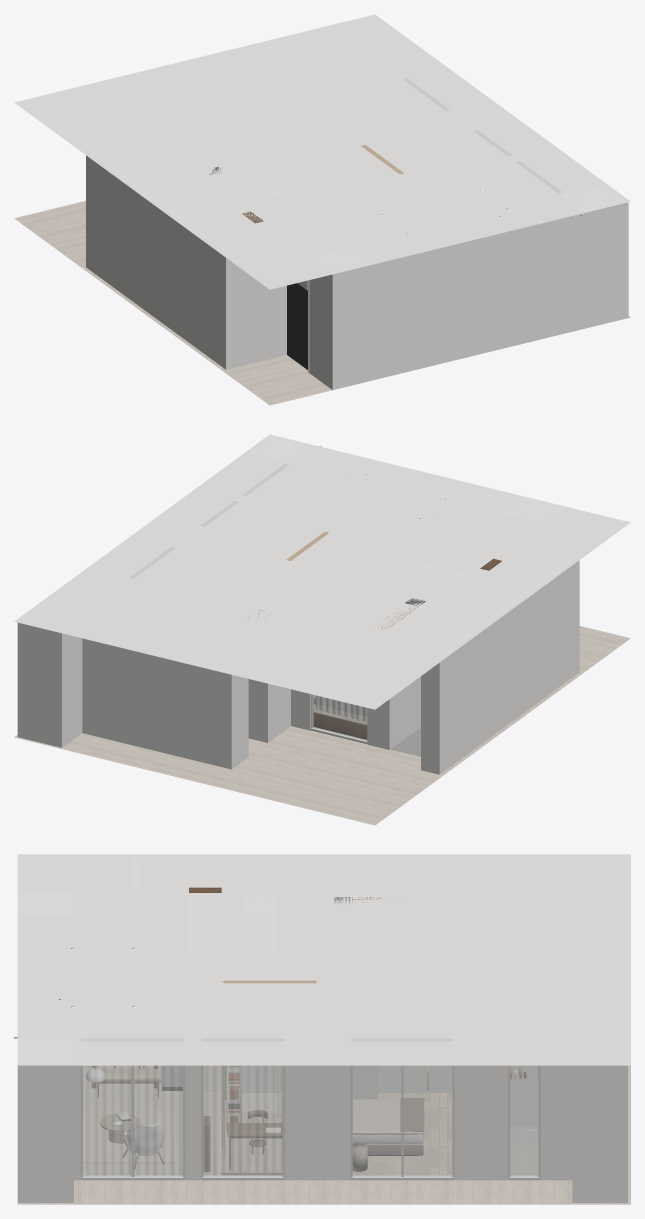
The model's file is apartment_mobile-BZNG0sJZ.glb.
The picture shows the model from 3 angles, top to bottom: view 1: azimuth 30°, elevation 25°; view 2: azimuth 150°, elevation 25°; view 3: azimuth 270°, elevation 25°; orthographic projection. The views are drawn at different scales.
Visible parts, largest first — view 1: ceiling, wall_38, wall_10, wall_36, floor_tile, wall_37, wall_33, door_entrance, wall_34; view 2: ceiling, floor_tile, wall_10, wall_1, wall_0, wall_9, win_bedB_glass, wall_14, wall_6, wall_2, wall_12, wall_36 (+5 smaller); view 3: ceiling, floor_tile, win_east3_glass, curtain_east_living, win_east1_glass, wall_37, win_east2_glass, curtain_east_studio, wall_17, wall_0, wall_5, floor_oak_master (+25 smaller).
Part boxes in pixels (x1,y1,x2,y2): ceiling: (14, 14, 630, 289); wall_38: (377, 213, 584, 379); wall_10: (89, 152, 231, 369); wall_36: (309, 246, 376, 389); floor_tile: (14, 201, 630, 405); wall_37: (566, 185, 628, 327); wall_33: (229, 236, 289, 368); door_entrance: (287, 283, 307, 369); wall_34: (558, 192, 589, 328); ceiling: (14, 434, 630, 709); floor_tile: (14, 626, 630, 825); wall_10: (438, 555, 579, 771); wall_1: (82, 638, 234, 769); wall_0: (17, 622, 82, 747); wall_9: (421, 653, 442, 774); win_bedB_glass: (313, 695, 366, 740); wall_14: (389, 588, 450, 746); wall_6: (219, 613, 270, 742); wall_2: (232, 648, 248, 766); wall_12: (367, 627, 392, 749); wall_36: (501, 496, 567, 524); ceiling: (17, 854, 630, 1065); floor_tile: (17, 1065, 630, 1204); win_east3_glass: (83, 1066, 182, 1176); curtain_east_living: (83, 1066, 182, 1174); win_east1_glass: (353, 1066, 451, 1176); wall_37: (17, 1041, 73, 1202); win_east2_glass: (204, 1066, 282, 1176); curtain_east_studio: (204, 1066, 282, 1174); wall_17: (285, 1038, 349, 1180); wall_0: (572, 1065, 627, 1202); wall_5: (454, 1039, 507, 1180); floor_oak_master: (352, 1093, 452, 1175).
Bounding box in the file's own units: 9.79 × 3 × 12.09.
112 materials, 22 textured.
